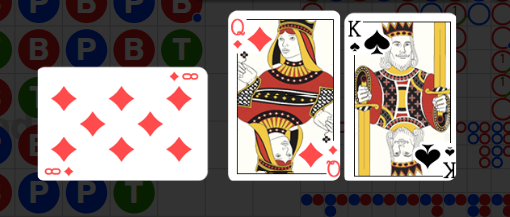6D: (43, 164, 75, 176)
8D: (167, 70, 199, 82)
QD: (284, 134, 328, 181), (217, 14, 261, 60)
